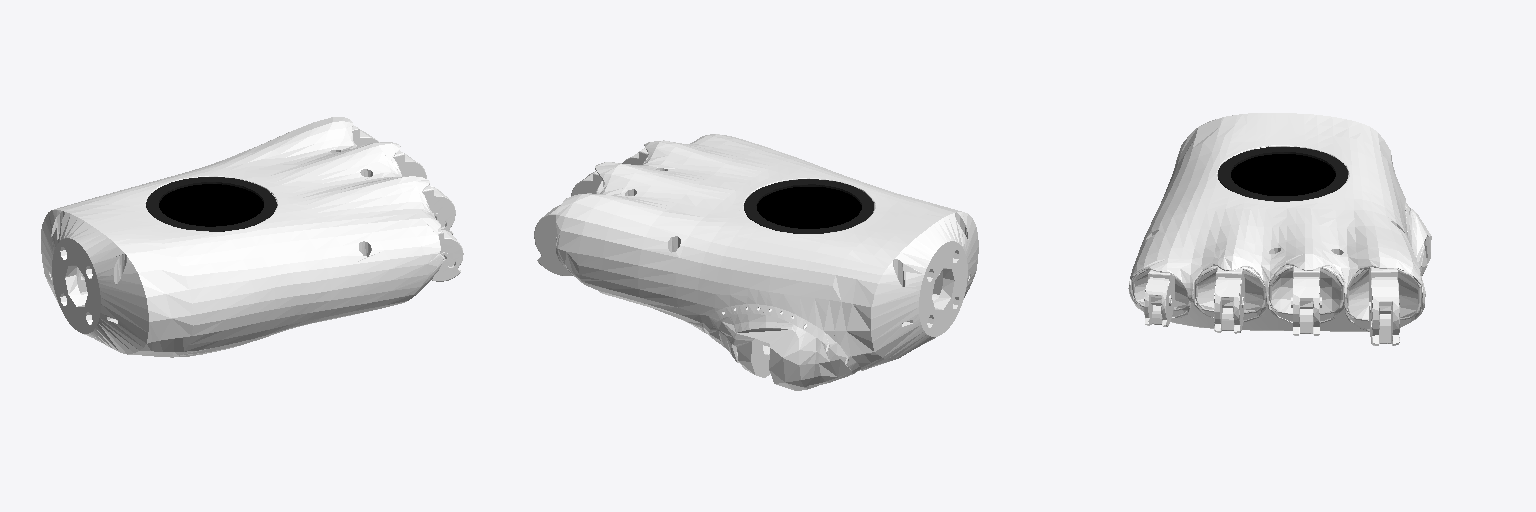
The model's file is armar-7_palm_right.obj.
The picture shows the model from 3 angles: view 1: azimuth 30°, elevation 25°; view 2: azimuth 150°, elevation 25°; view 3: azimuth 270°, elevation 25°; orthographic projection.
Parts seen in each view (by area): view 1: prosthetic_hand_male_10-1-30; view 2: prosthetic_hand_male_10-1-30; view 3: prosthetic_hand_male_10-1-30.
Part boxes in pixels (x1,y1,x2,y2): prosthetic_hand_male_10-1-30: (41, 117, 463, 357); prosthetic_hand_male_10-1-30: (534, 134, 978, 390); prosthetic_hand_male_10-1-30: (1128, 113, 1431, 345).
Size of the model in its own units: 0.1254 by 0.0461 by 0.0928.